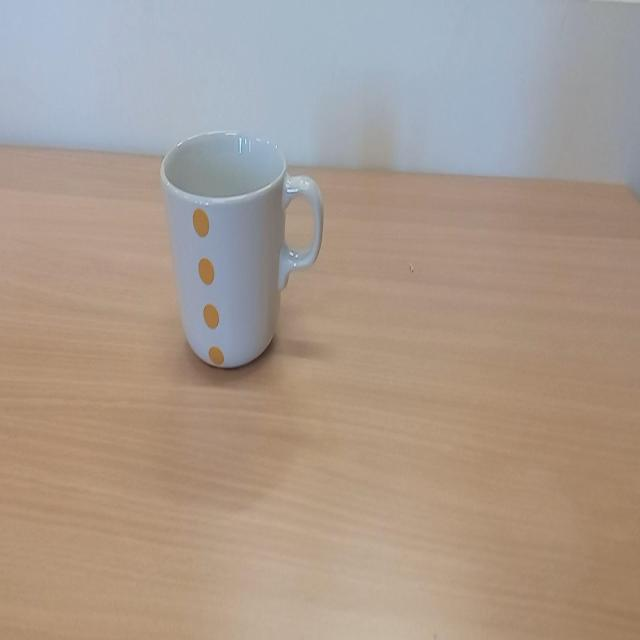cup: (159, 125, 328, 378)
